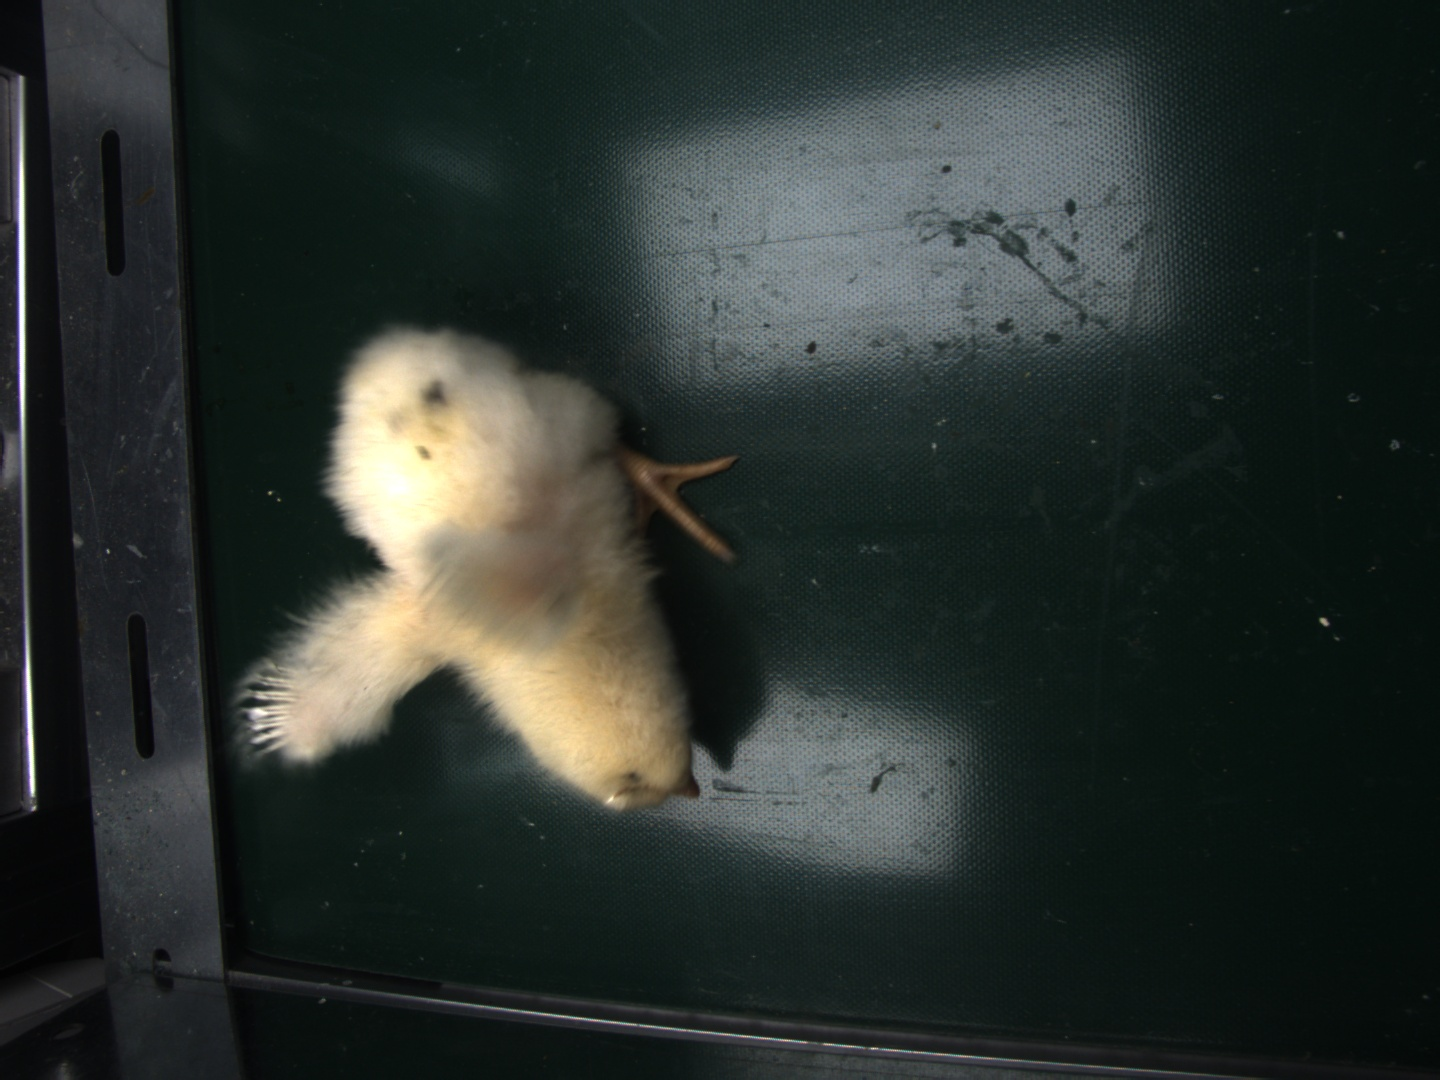male: (242, 657, 293, 753)
